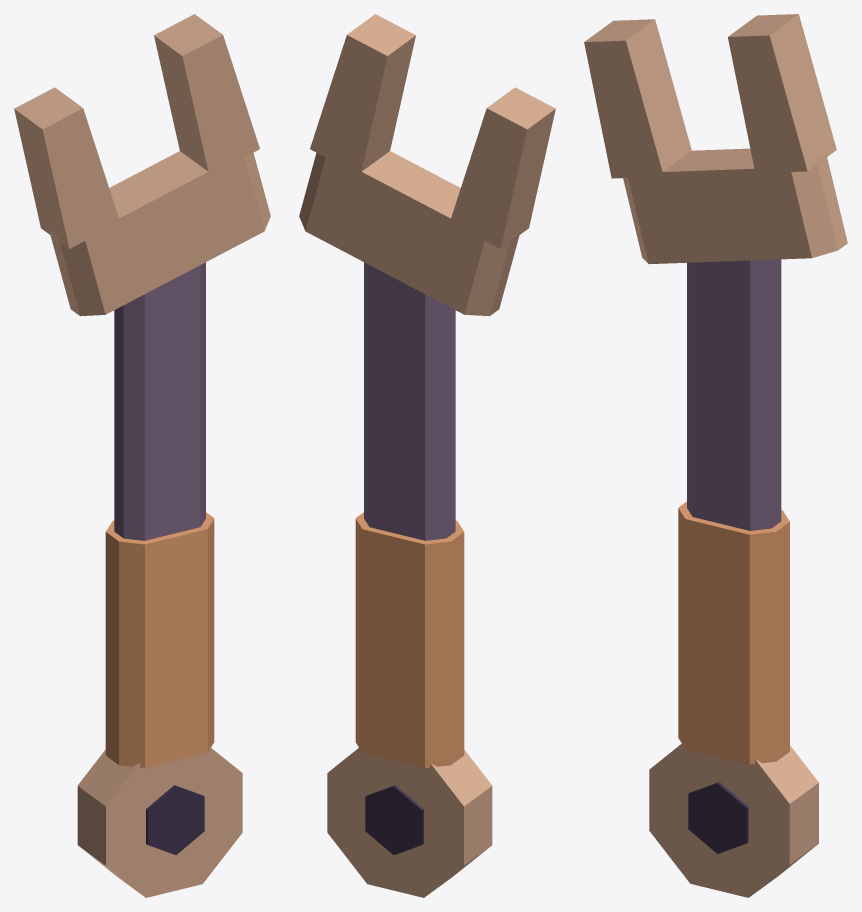
The model's file is power_wrench.obj.
3 renders of one model, left to right at view 1: azimuth 30°, elevation 25°; view 2: azimuth 150°, elevation 25°; view 3: azimuth 330°, elevation 25°, orthographic. The views are drawn at different scales.
Parts seen in each view (by area): view 1: power_wrench_clay_sand, power_wrench_warm_orange, power_wrench_mauve, power_wrench_deep_purple; view 2: power_wrench_clay_sand, power_wrench_warm_orange, power_wrench_mauve, power_wrench_deep_purple; view 3: power_wrench_clay_sand, power_wrench_warm_orange, power_wrench_mauve, power_wrench_deep_purple.
Boxes of the visible parts, x1,y1,x2,y2 form: power_wrench_clay_sand: (14, 14, 270, 897); power_wrench_warm_orange: (105, 512, 214, 768); power_wrench_mauve: (114, 262, 205, 540); power_wrench_deep_purple: (146, 785, 204, 854); power_wrench_clay_sand: (299, 14, 555, 897); power_wrench_warm_orange: (355, 512, 464, 768); power_wrench_mauve: (364, 262, 455, 540); power_wrench_deep_purple: (365, 785, 423, 854); power_wrench_clay_sand: (584, 14, 847, 897); power_wrench_warm_orange: (678, 501, 789, 764); power_wrench_mauve: (687, 259, 781, 530); power_wrench_deep_purple: (688, 782, 748, 853).
Size of the model in its own units: 0.1445 by 0.4904 by 0.034.
